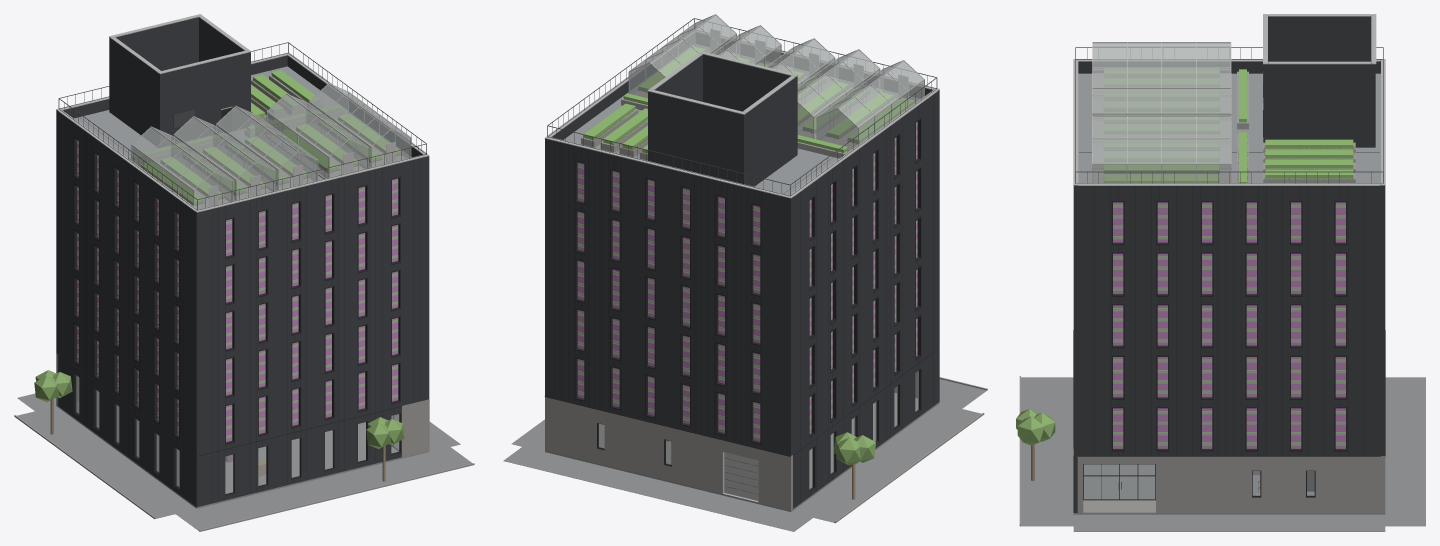
File: clay-led-grow-block-clay-v005.glb
3 renders of one model, left to right at view 1: azimuth 30°, elevation 25°; view 2: azimuth 150°, elevation 25°; view 3: azimuth 270°, elevation 25°, orthographic. The views are drawn at different scales.
Visible parts, largest first — view 1: CLAY_WALL, CLAY_GLASS, CLAY_TRIM, CLAY_FOUNDATION, CLAY_LEAF, CLAY_PALE, CLAY_JOINT, CLAY_LED, CLAY_SAND, CLAY_STONE, CLAY_MEMBRANE, CLAY_RACK (+2 smaller); view 2: CLAY_WALL, CLAY_GLASS, CLAY_TRIM, CLAY_FOUNDATION, CLAY_STONE, CLAY_PALE, CLAY_LEAF, CLAY_JOINT, CLAY_LED, CLAY_MEMBRANE, CLAY_SAND, CLAY_RACK (+2 smaller); view 3: CLAY_WALL, CLAY_GLASS, CLAY_FOUNDATION, CLAY_LEAF, CLAY_STONE, CLAY_LED, CLAY_PALE, CLAY_TRIM, CLAY_MEMBRANE, CLAY_JOINT, CLAY_SAND, CLAY_RACK (+2 smaller).
Part boxes in pixels (bbox=[...]): CLAY_WALL: bbox=[56, 17, 429, 506]; CLAY_GLASS: bbox=[76, 84, 410, 493]; CLAY_TRIM: bbox=[73, 107, 400, 495]; CLAY_FOUNDATION: bbox=[15, 393, 473, 531]; CLAY_LEAF: bbox=[77, 70, 401, 438]; CLAY_PALE: bbox=[56, 14, 429, 395]; CLAY_JOINT: bbox=[58, 117, 428, 502]; CLAY_LED: bbox=[77, 144, 398, 441]; CLAY_SAND: bbox=[128, 75, 406, 209]; CLAY_STONE: bbox=[14, 353, 474, 531]; CLAY_MEMBRANE: bbox=[74, 66, 411, 201]; CLAY_RACK: bbox=[77, 119, 402, 462]; CLAY_WALL: bbox=[545, 33, 939, 508]; CLAY_GLASS: bbox=[577, 15, 923, 489]; CLAY_TRIM: bbox=[574, 118, 921, 492]; CLAY_FOUNDATION: bbox=[503, 379, 986, 531]; CLAY_STONE: bbox=[545, 377, 987, 522]; CLAY_PALE: bbox=[544, 14, 939, 502]; CLAY_LEAF: bbox=[577, 46, 917, 437]; CLAY_JOINT: bbox=[544, 94, 937, 502]; CLAY_LED: bbox=[577, 125, 917, 441]; CLAY_MEMBRANE: bbox=[563, 44, 919, 195]; CLAY_SAND: bbox=[581, 52, 899, 160]; CLAY_RACK: bbox=[577, 76, 917, 441]; CLAY_WALL: bbox=[1073, 15, 1385, 512]; CLAY_GLASS: bbox=[1084, 43, 1345, 499]; CLAY_FOUNDATION: bbox=[1020, 377, 1425, 531]; CLAY_LEAF: bbox=[1104, 69, 1353, 444]; CLAY_STONE: bbox=[1019, 376, 1385, 525]; CLAY_LED: bbox=[1113, 202, 1345, 448]; CLAY_PALE: bbox=[1073, 14, 1385, 495]; CLAY_TRIM: bbox=[1083, 110, 1347, 500]; CLAY_MEMBRANE: bbox=[1078, 73, 1380, 183]; CLAY_JOINT: bbox=[1073, 152, 1385, 456]; CLAY_SAND: bbox=[1084, 71, 1355, 513]; CLAY_RACK: bbox=[1103, 76, 1345, 474].
Bounding box in the file's own units: 29.7 × 32.66 × 30.26.
